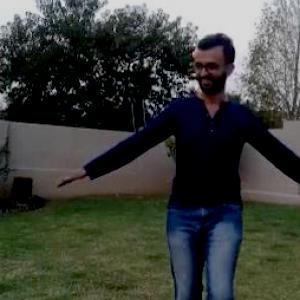land: (57, 28, 299, 299)
